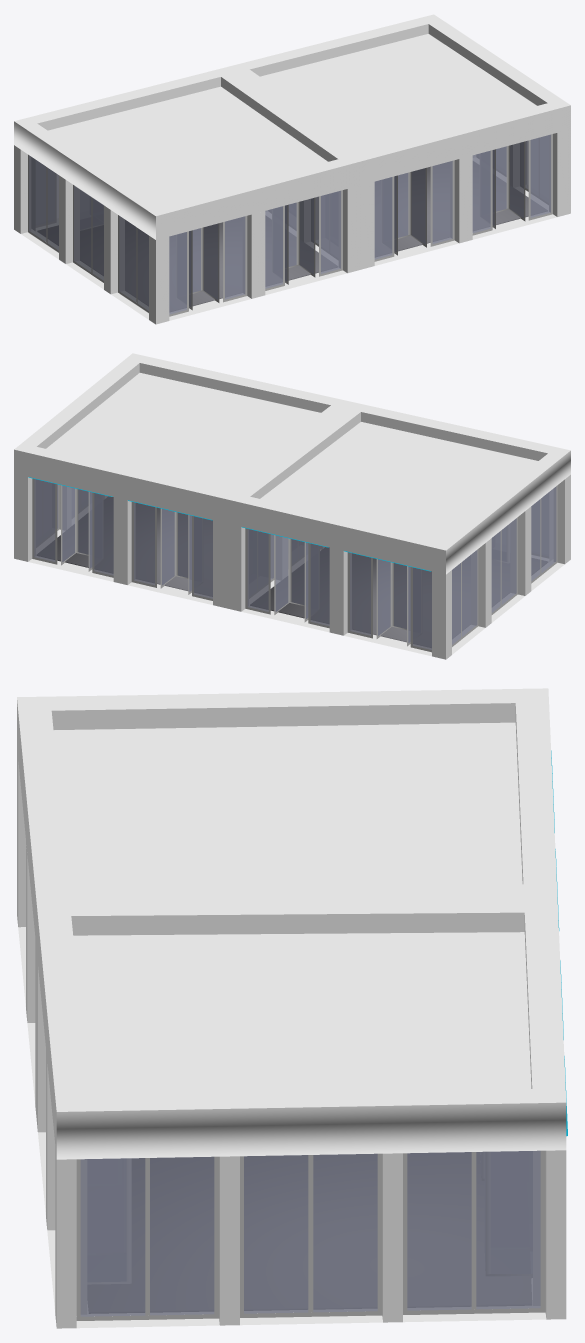
The model's file is 1FloorStandardHouse.dae.
The picture shows the model from 3 angles, top to bottom: view 1: azimuth 30°, elevation 25°; view 2: azimuth 150°, elevation 25°; view 3: azimuth 270°, elevation 25°; orthographic projection. The views are drawn at different scales.
Visible parts, largest first — view 1: CityEngineMaterial_30_004; view 2: CityEngineMaterial_30_004; view 3: CityEngineMaterial_30_004.
Part boxes in pixels (left/top/right/bottom): CityEngineMaterial_30_004: left=14, top=14, right=570, bottom=324; CityEngineMaterial_30_004: left=14, top=353, right=570, bottom=659; CityEngineMaterial_30_004: left=17, top=688, right=567, bottom=1328.
Bounding box in the file's own units: 20.98 × 11.53 × 5.
